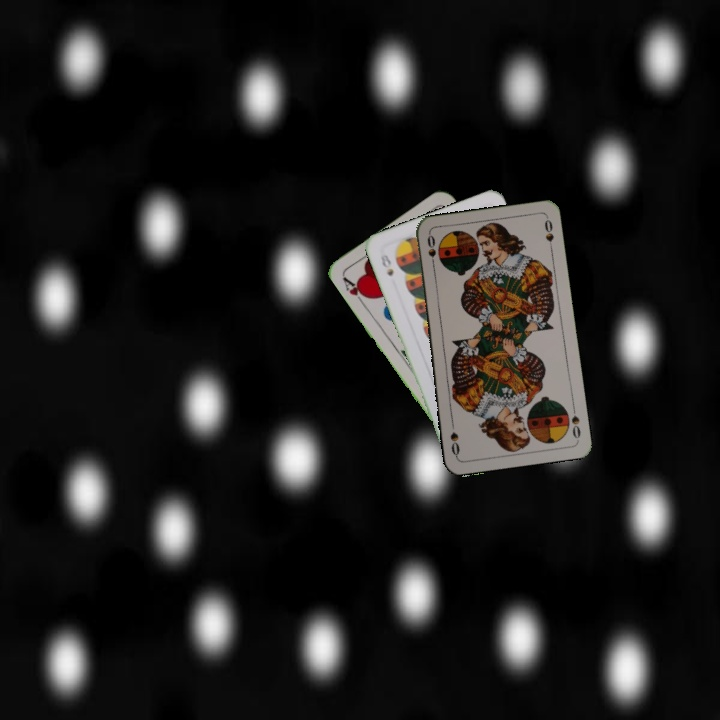HA: (339, 273, 371, 308)
S8: (376, 250, 396, 279)
SO: (423, 231, 439, 271), (567, 401, 583, 441)
